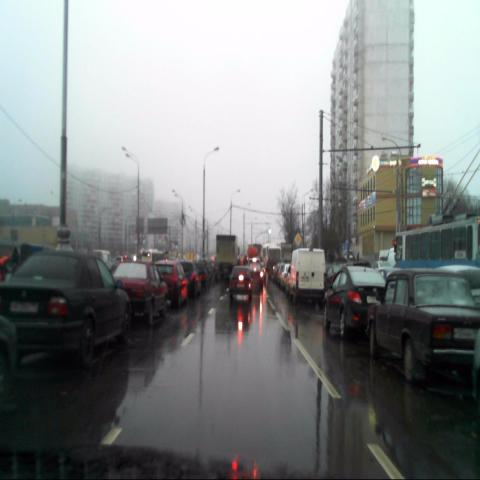2_1: (294, 233, 302, 246)
